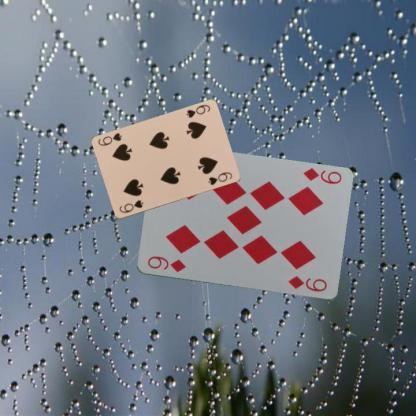6s: (184, 102, 212, 119), (116, 198, 144, 214)
9d: (144, 254, 186, 274), (300, 166, 342, 186)
